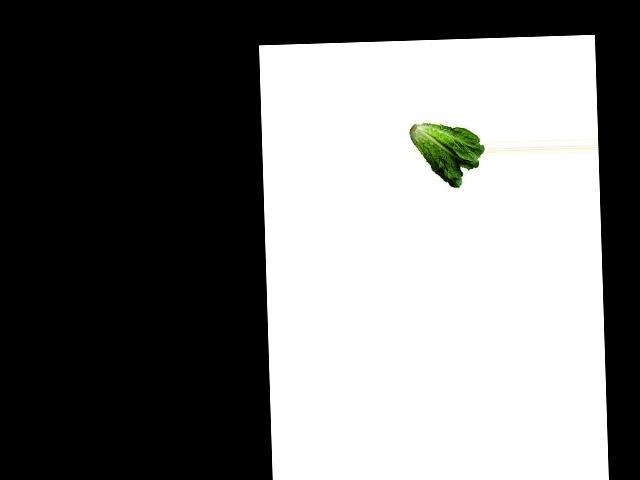lettuce: (409, 118, 487, 191)
